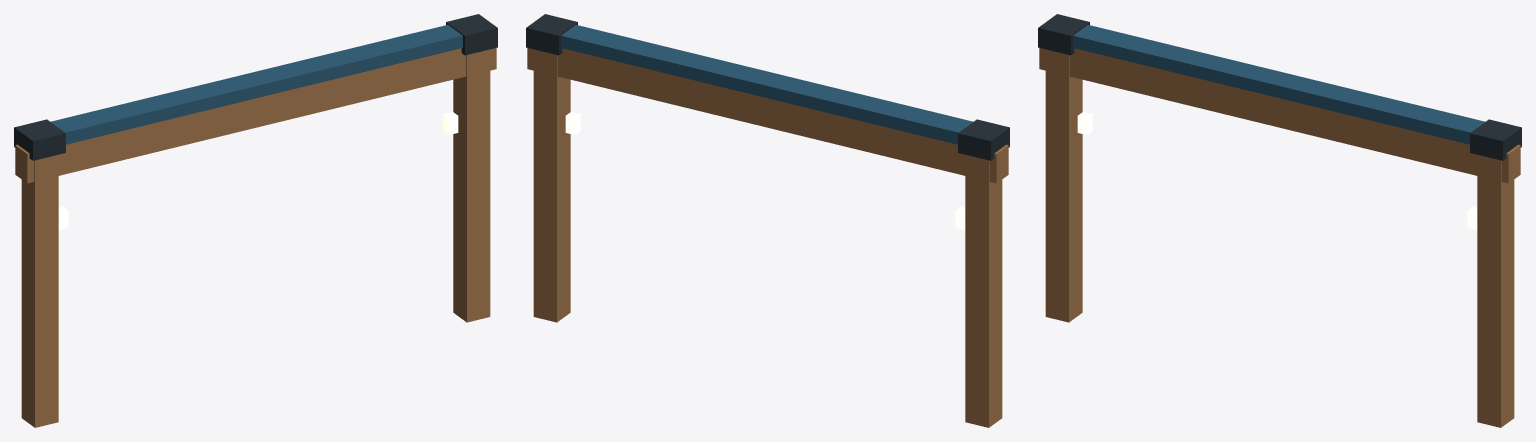
The model's file is pier_gate.glb.
3 views of the same model, side by side, from view 1: azimuth 30°, elevation 25°; view 2: azimuth 150°, elevation 25°; view 3: azimuth 330°, elevation 25° (orthographic).
Parts seen in each view (by area): view 1: LOD0; view 2: LOD0; view 3: LOD0.
Part boxes in pixels (x1,y1,x2,y2): LOD0: (14,14,497,427); LOD0: (526,14,1009,427); LOD0: (1038,14,1521,427).
Size of what is drawn, in the model's own units: 20 by 11.8 by 1.4.
